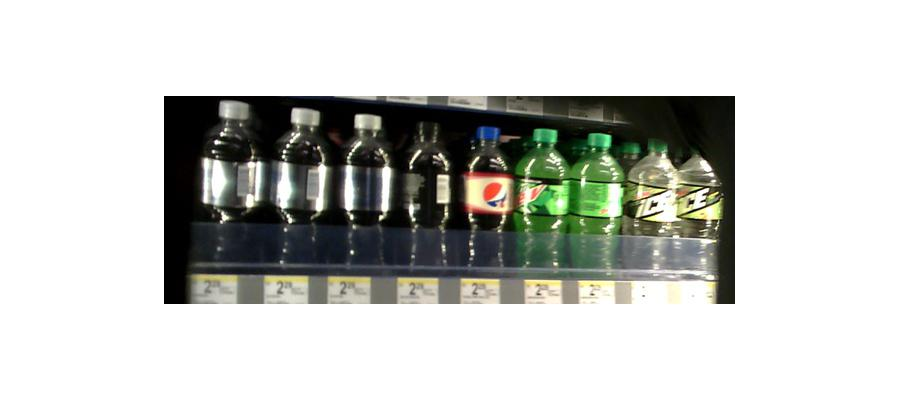bottle: (195, 101, 260, 270), (269, 105, 330, 273), (335, 109, 396, 272), (399, 119, 456, 276), (514, 121, 569, 280), (460, 121, 512, 275), (570, 130, 623, 281), (624, 138, 678, 273), (680, 128, 723, 283)
